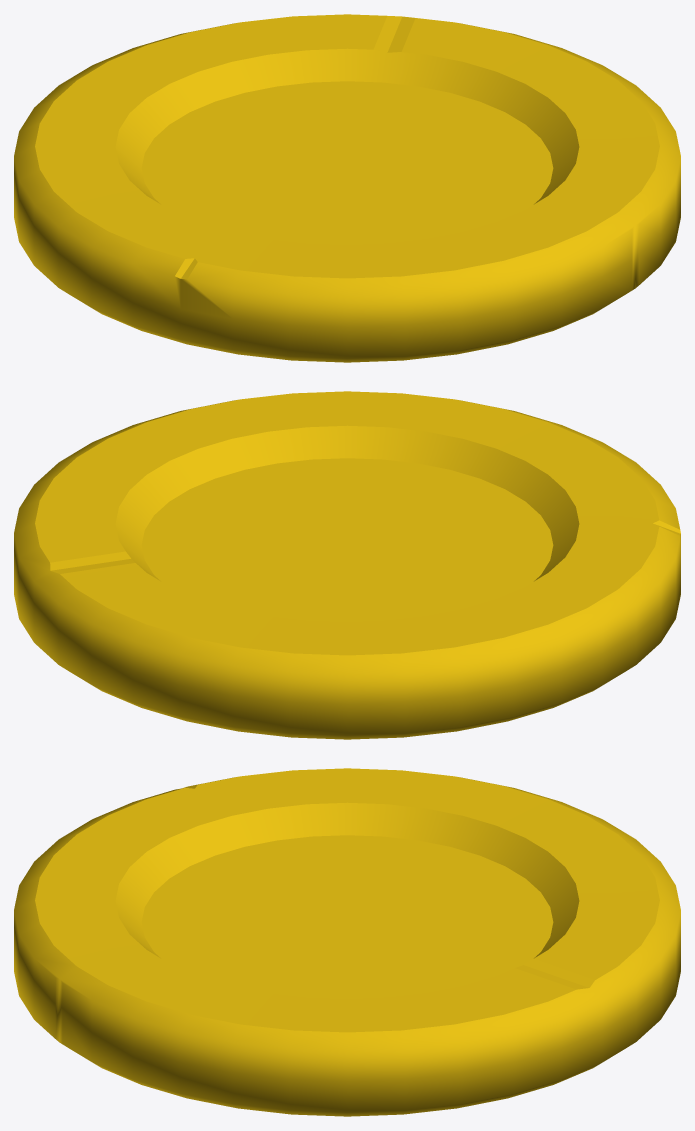
Rendered from coin.fbx.
The picture shows the model from 3 angles, top to bottom: view 1: azimuth 30°, elevation 25°; view 2: azimuth 150°, elevation 25°; view 3: azimuth 270°, elevation 25°; orthographic projection.
Visible parts, largest first — view 1: Cylinder; view 2: Cylinder; view 3: Cylinder.
Boxes of the visible parts, <box> form: Cylinder: <box>14,14,680,362</box>; Cylinder: <box>14,391,680,739</box>; Cylinder: <box>14,768,680,1116</box>.
Size of the model in its own units: 354 by 47.32 by 354.
